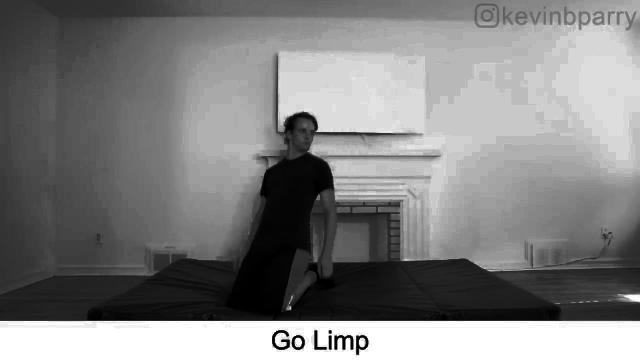jatuh: (226, 112, 350, 316)
